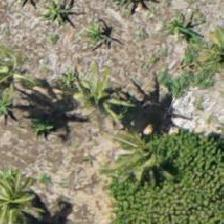coconut_tree: (109, 116, 199, 206), (47, 48, 137, 138), (0, 30, 59, 120), (0, 154, 65, 223)
